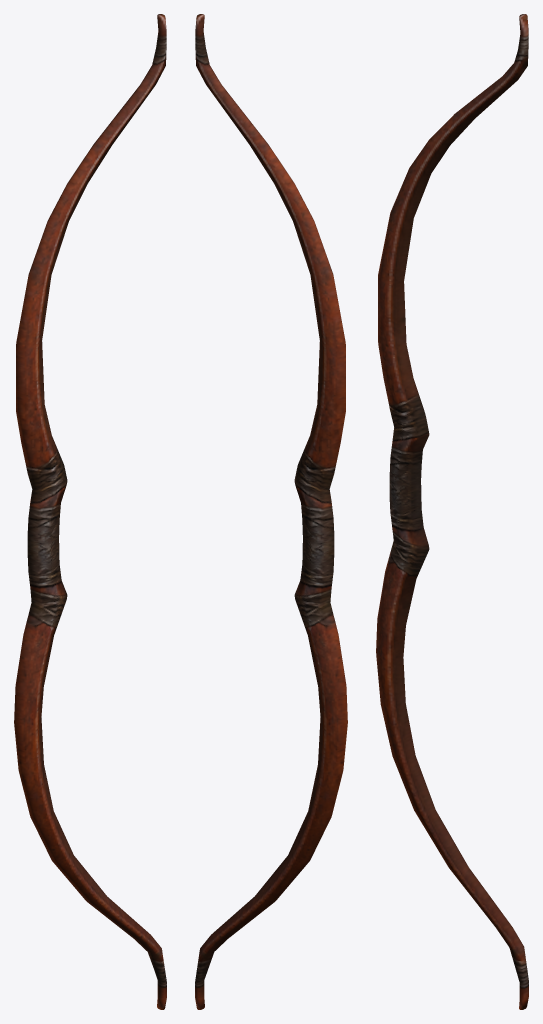
File: mm7_m154_bow.glb
The picture shows the model from 3 angles, left to right: view 1: azimuth 30°, elevation 25°; view 2: azimuth 150°, elevation 25°; view 3: azimuth 330°, elevation 25°; orthographic projection.
Parts seen in each view (by area): view 1: Bow; view 2: Bow; view 3: Bow.
Part boxes in pixels (<box>): Bow: <box>14,14,166,1009</box>; Bow: <box>195,14,347,1009</box>; Bow: <box>376,14,528,1009</box>.
Bounding box in the file's own units: 0.207 × 1.29 × 0.0319.
1 material, 1 textured.
